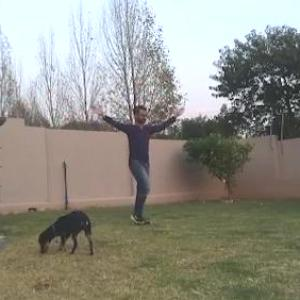takeoff: (53, 100, 171, 234)
